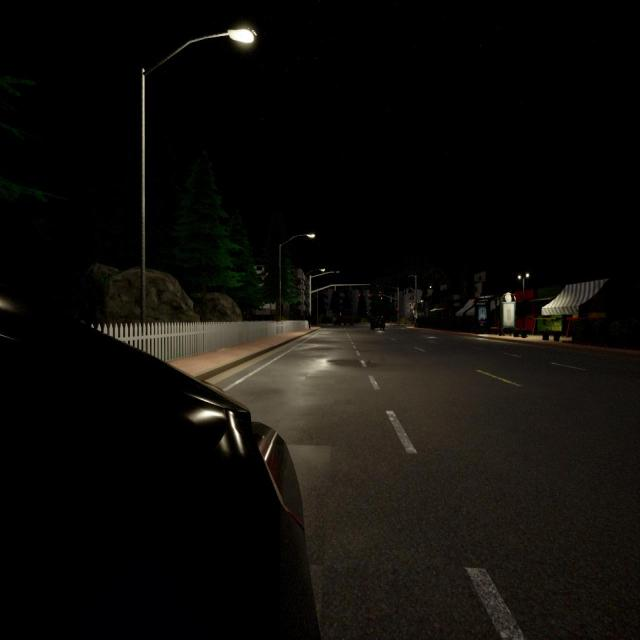Pedestrian: (308, 312, 312, 330)
Vehicle: (0, 295, 320, 640), (370, 314, 386, 330), (336, 313, 354, 327)
traffic_light: (358, 293, 360, 298), (396, 308, 398, 313), (379, 294, 380, 299), (368, 294, 369, 298)
